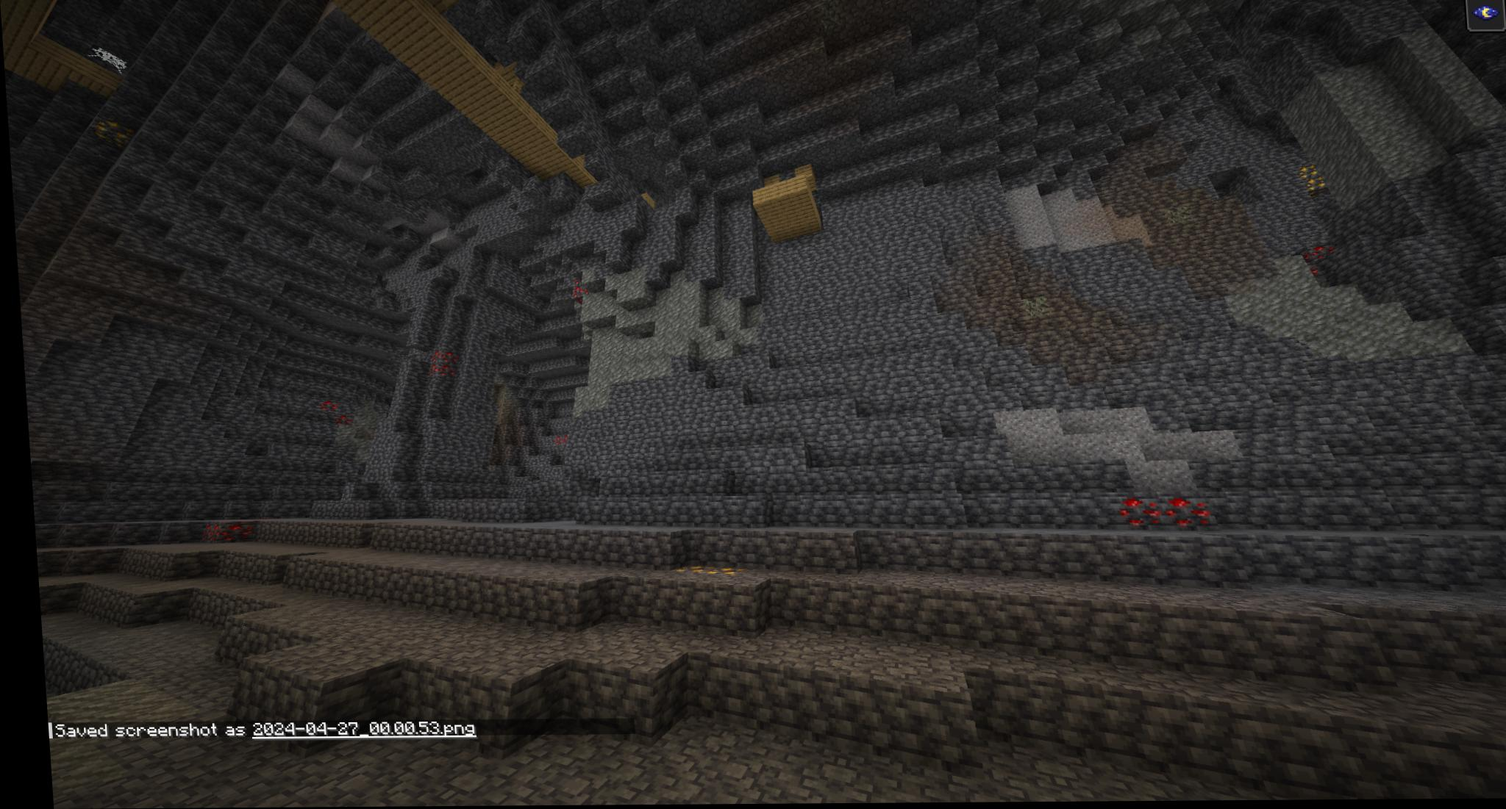gold ore: (79, 107, 135, 153), (663, 556, 733, 590), (1287, 162, 1336, 199)
redstone ore: (1112, 489, 1156, 534), (1294, 240, 1340, 282), (1158, 496, 1207, 534), (192, 517, 249, 546), (312, 399, 346, 431), (421, 350, 453, 380), (561, 278, 589, 299), (541, 432, 565, 453)
